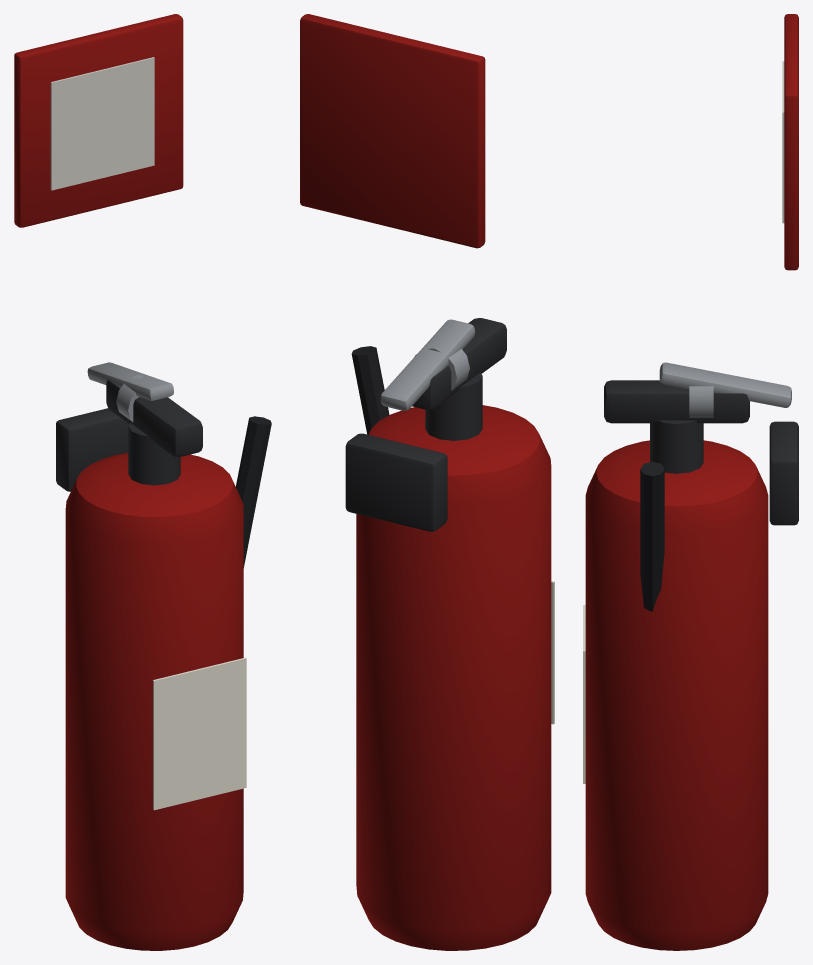
Rendered from extinguisher.glb.
3 renders of one model, left to right at view 1: azimuth 30°, elevation 25°; view 2: azimuth 150°, elevation 25°; view 3: azimuth 270°, elevation 25°, orthographic. The views are drawn at different scales.
Parts seen in each view (by area): view 1: extinguisher; view 2: extinguisher; view 3: extinguisher.
Part boxes in pixels (<box>): extinguisher: <box>14,14,271,950</box>; extinguisher: <box>300,14,554,950</box>; extinguisher: <box>583,14,798,950</box>.
Size of the model in its own units: 0.181 by 0.79 by 0.177.
